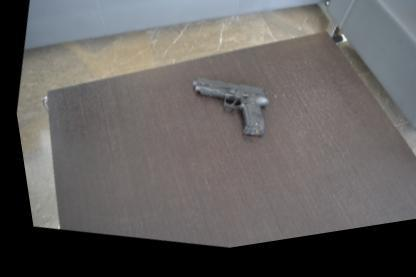pistol: (176, 72, 272, 152)
